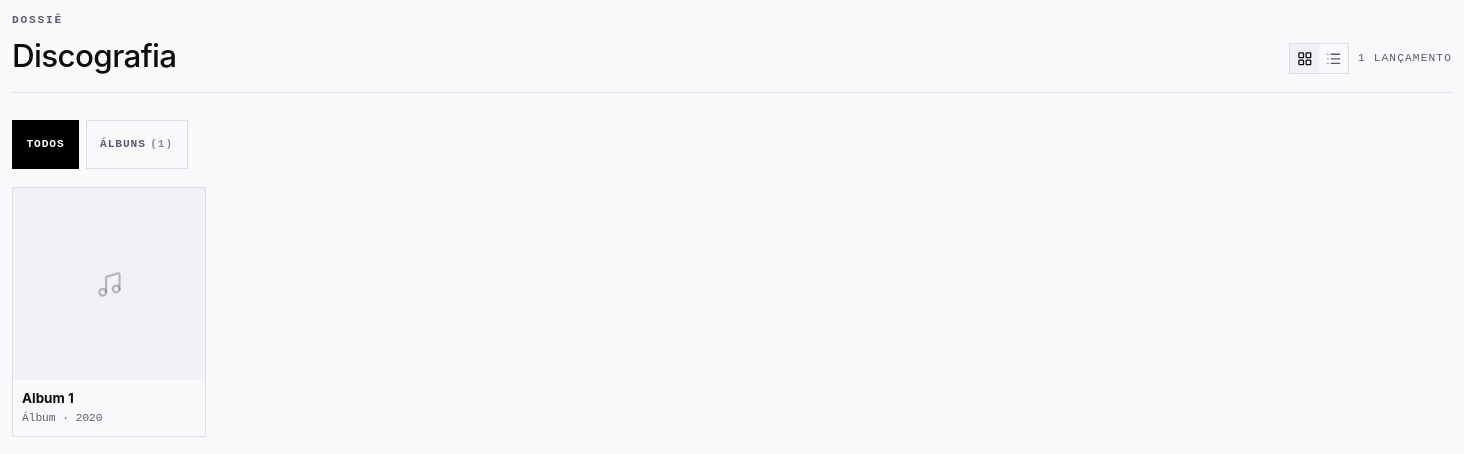
Test case: GroupDiscography › formata a duração da faixa em minutos:segundos
The image size is (1464, 454).
Click the button titled "Lista": (1333, 58) [1319, 44, 1348, 73]
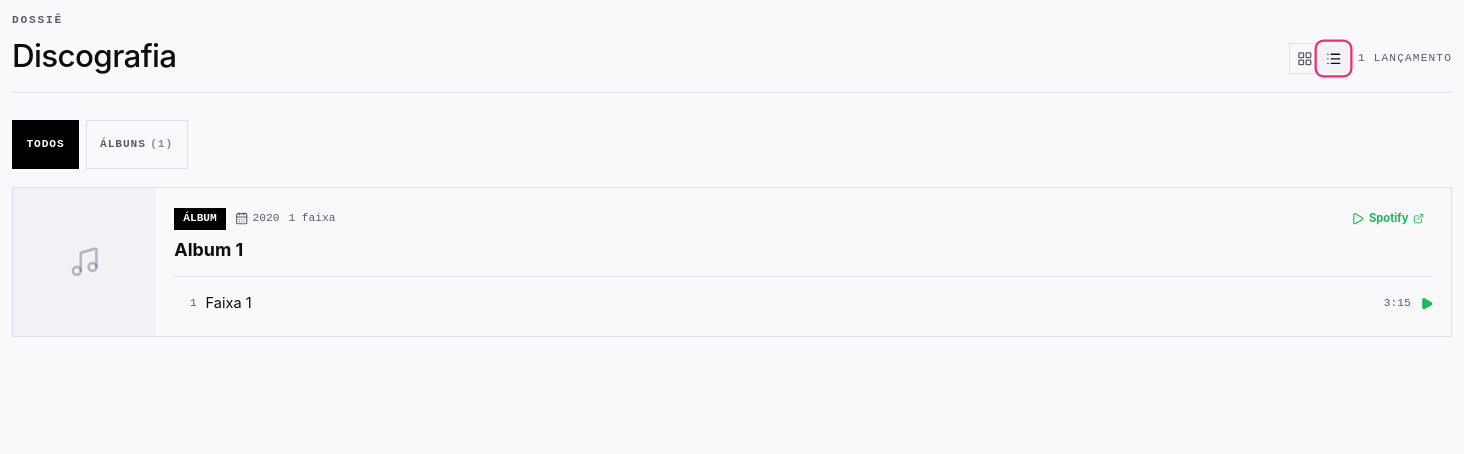
Expected: the text "3:15" is shown, [1384, 295, 1411, 311]
